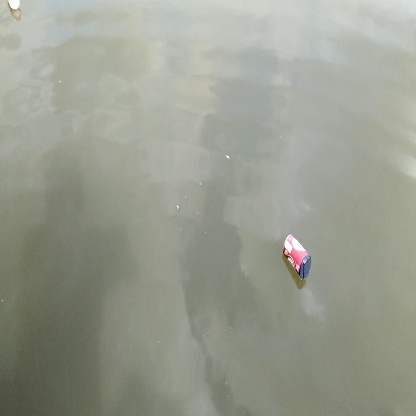bottle: (277, 231, 319, 288)
